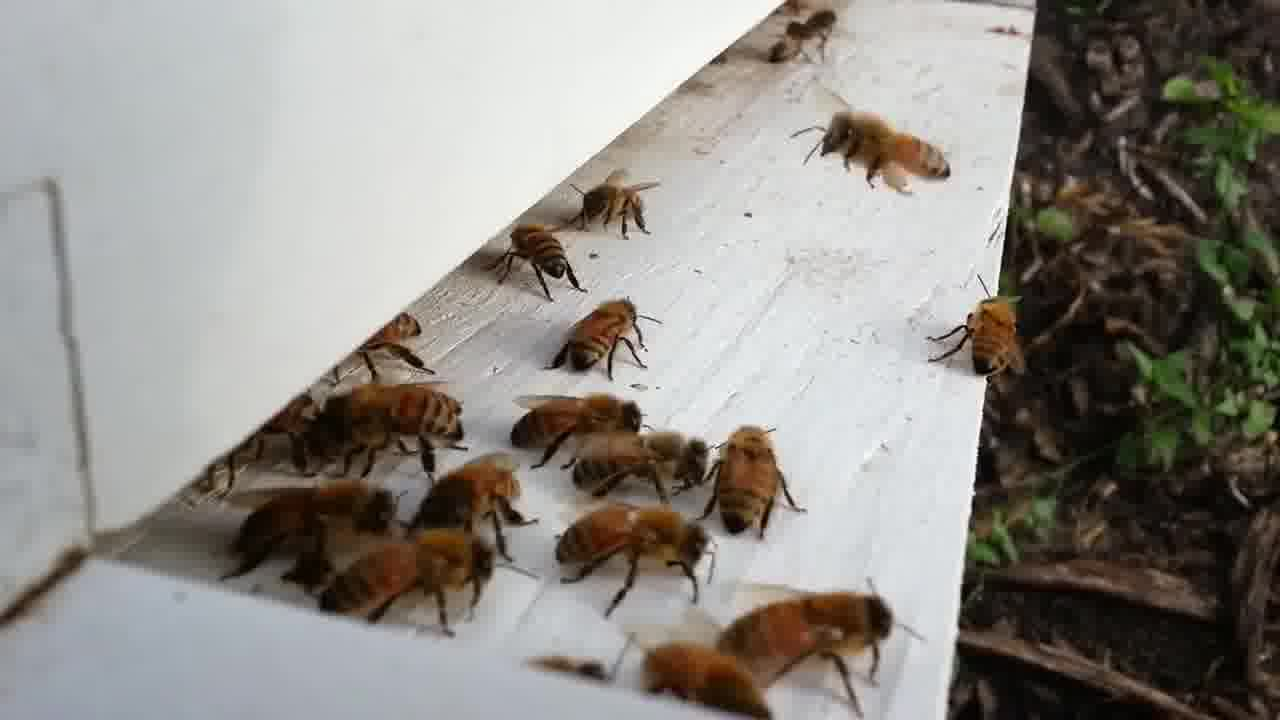pollen: (807, 109, 963, 191)
